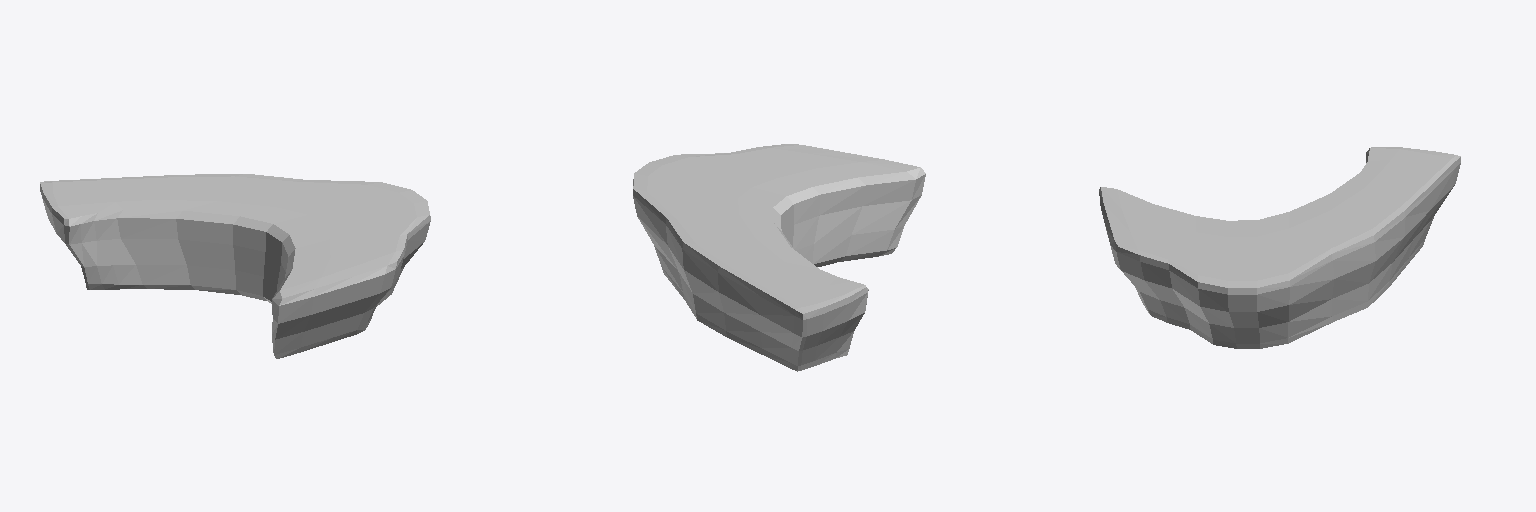
The model's file is PM3D_rock031_001.OBJ.
The picture shows the model from 3 angles: view 1: azimuth 30°, elevation 25°; view 2: azimuth 150°, elevation 25°; view 3: azimuth 270°, elevation 25°; orthographic projection.
Visible parts, largest first — view 1: Group38149; view 2: Group38149; view 3: Group38149.
Part boxes in pixels (bbox=[...]): Group38149: bbox=[40, 174, 430, 358]; Group38149: bbox=[633, 144, 925, 371]; Group38149: bbox=[1099, 147, 1460, 348].
Bounding box in the file's own units: 1932 × 499 × 2076.